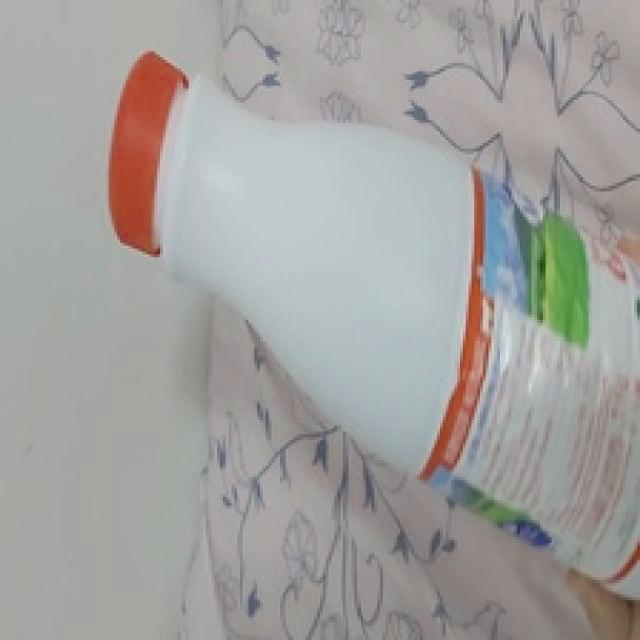bottle: (105, 50, 640, 606)
